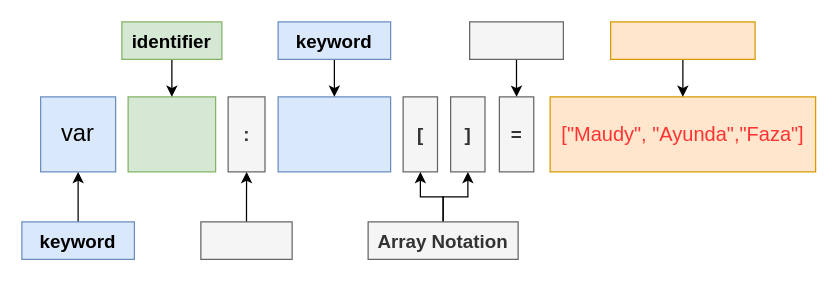
The diagram is 838 pixels wide and 281 high, and some of its shapes have lost their labels. The shapes that lost their labels are listed below. From the top down, each one's centre as x and y in pixels, then its label:
point (515, 40): operator
point (682, 40): Array Literal
point (171, 134): mod
point (334, 134): string
point (246, 240): Colon
